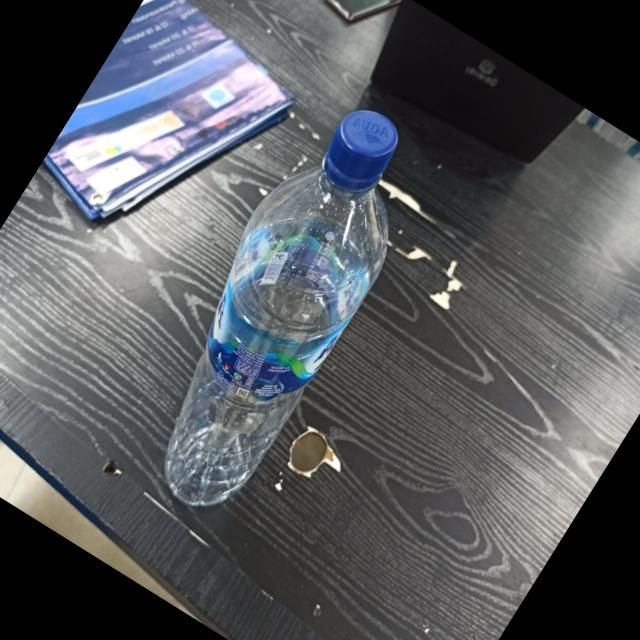BotolPlastik: (102, 82, 454, 528)
